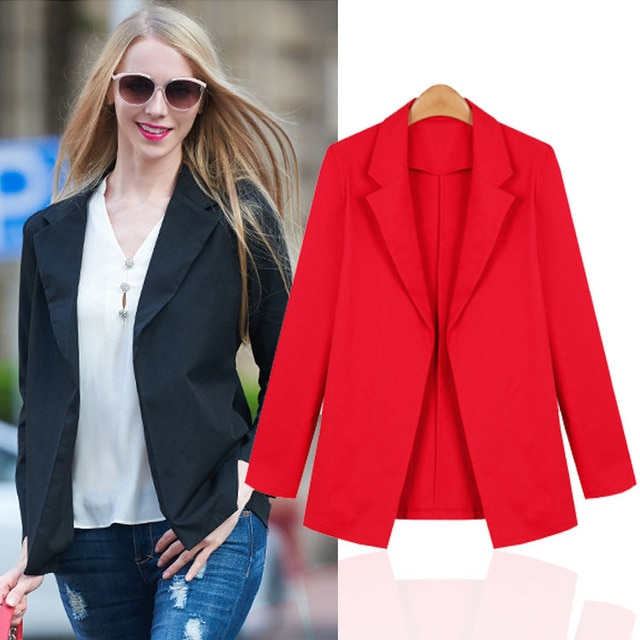F_W_suit jacket: (266, 108, 634, 533), (12, 183, 298, 555)
